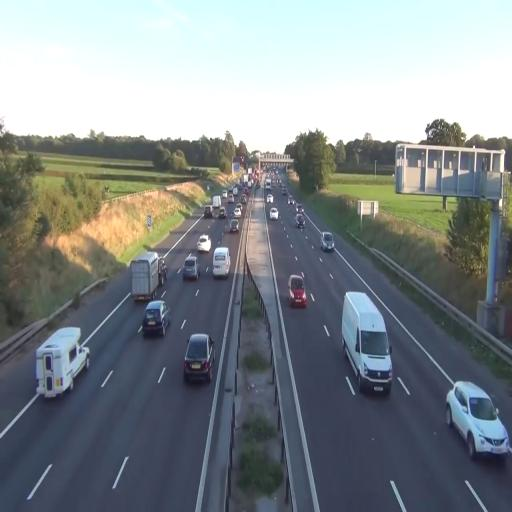vehicle: (342, 289, 392, 397), (445, 379, 510, 459), (34, 326, 90, 399), (130, 252, 161, 308), (183, 333, 214, 385), (141, 300, 171, 338), (288, 274, 306, 308), (212, 245, 230, 278), (182, 255, 199, 282), (197, 234, 211, 253), (321, 232, 334, 251), (269, 206, 280, 221)
